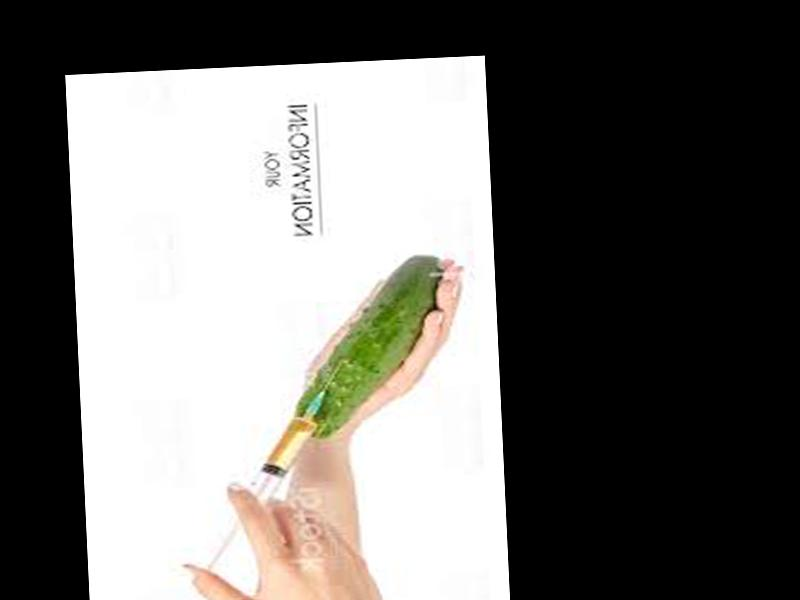Cucumber: (284, 256, 447, 438)
